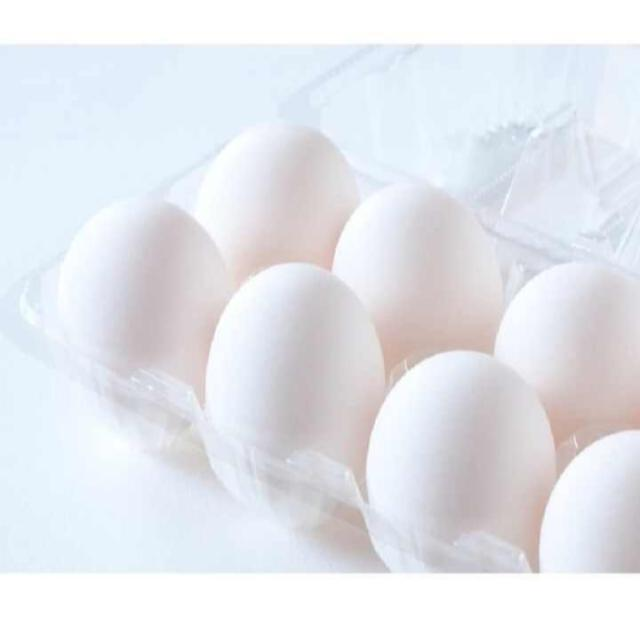Egg: (366, 263, 640, 570), (205, 263, 385, 484), (332, 183, 504, 377), (58, 203, 228, 396), (195, 125, 358, 290), (539, 430, 640, 572)
